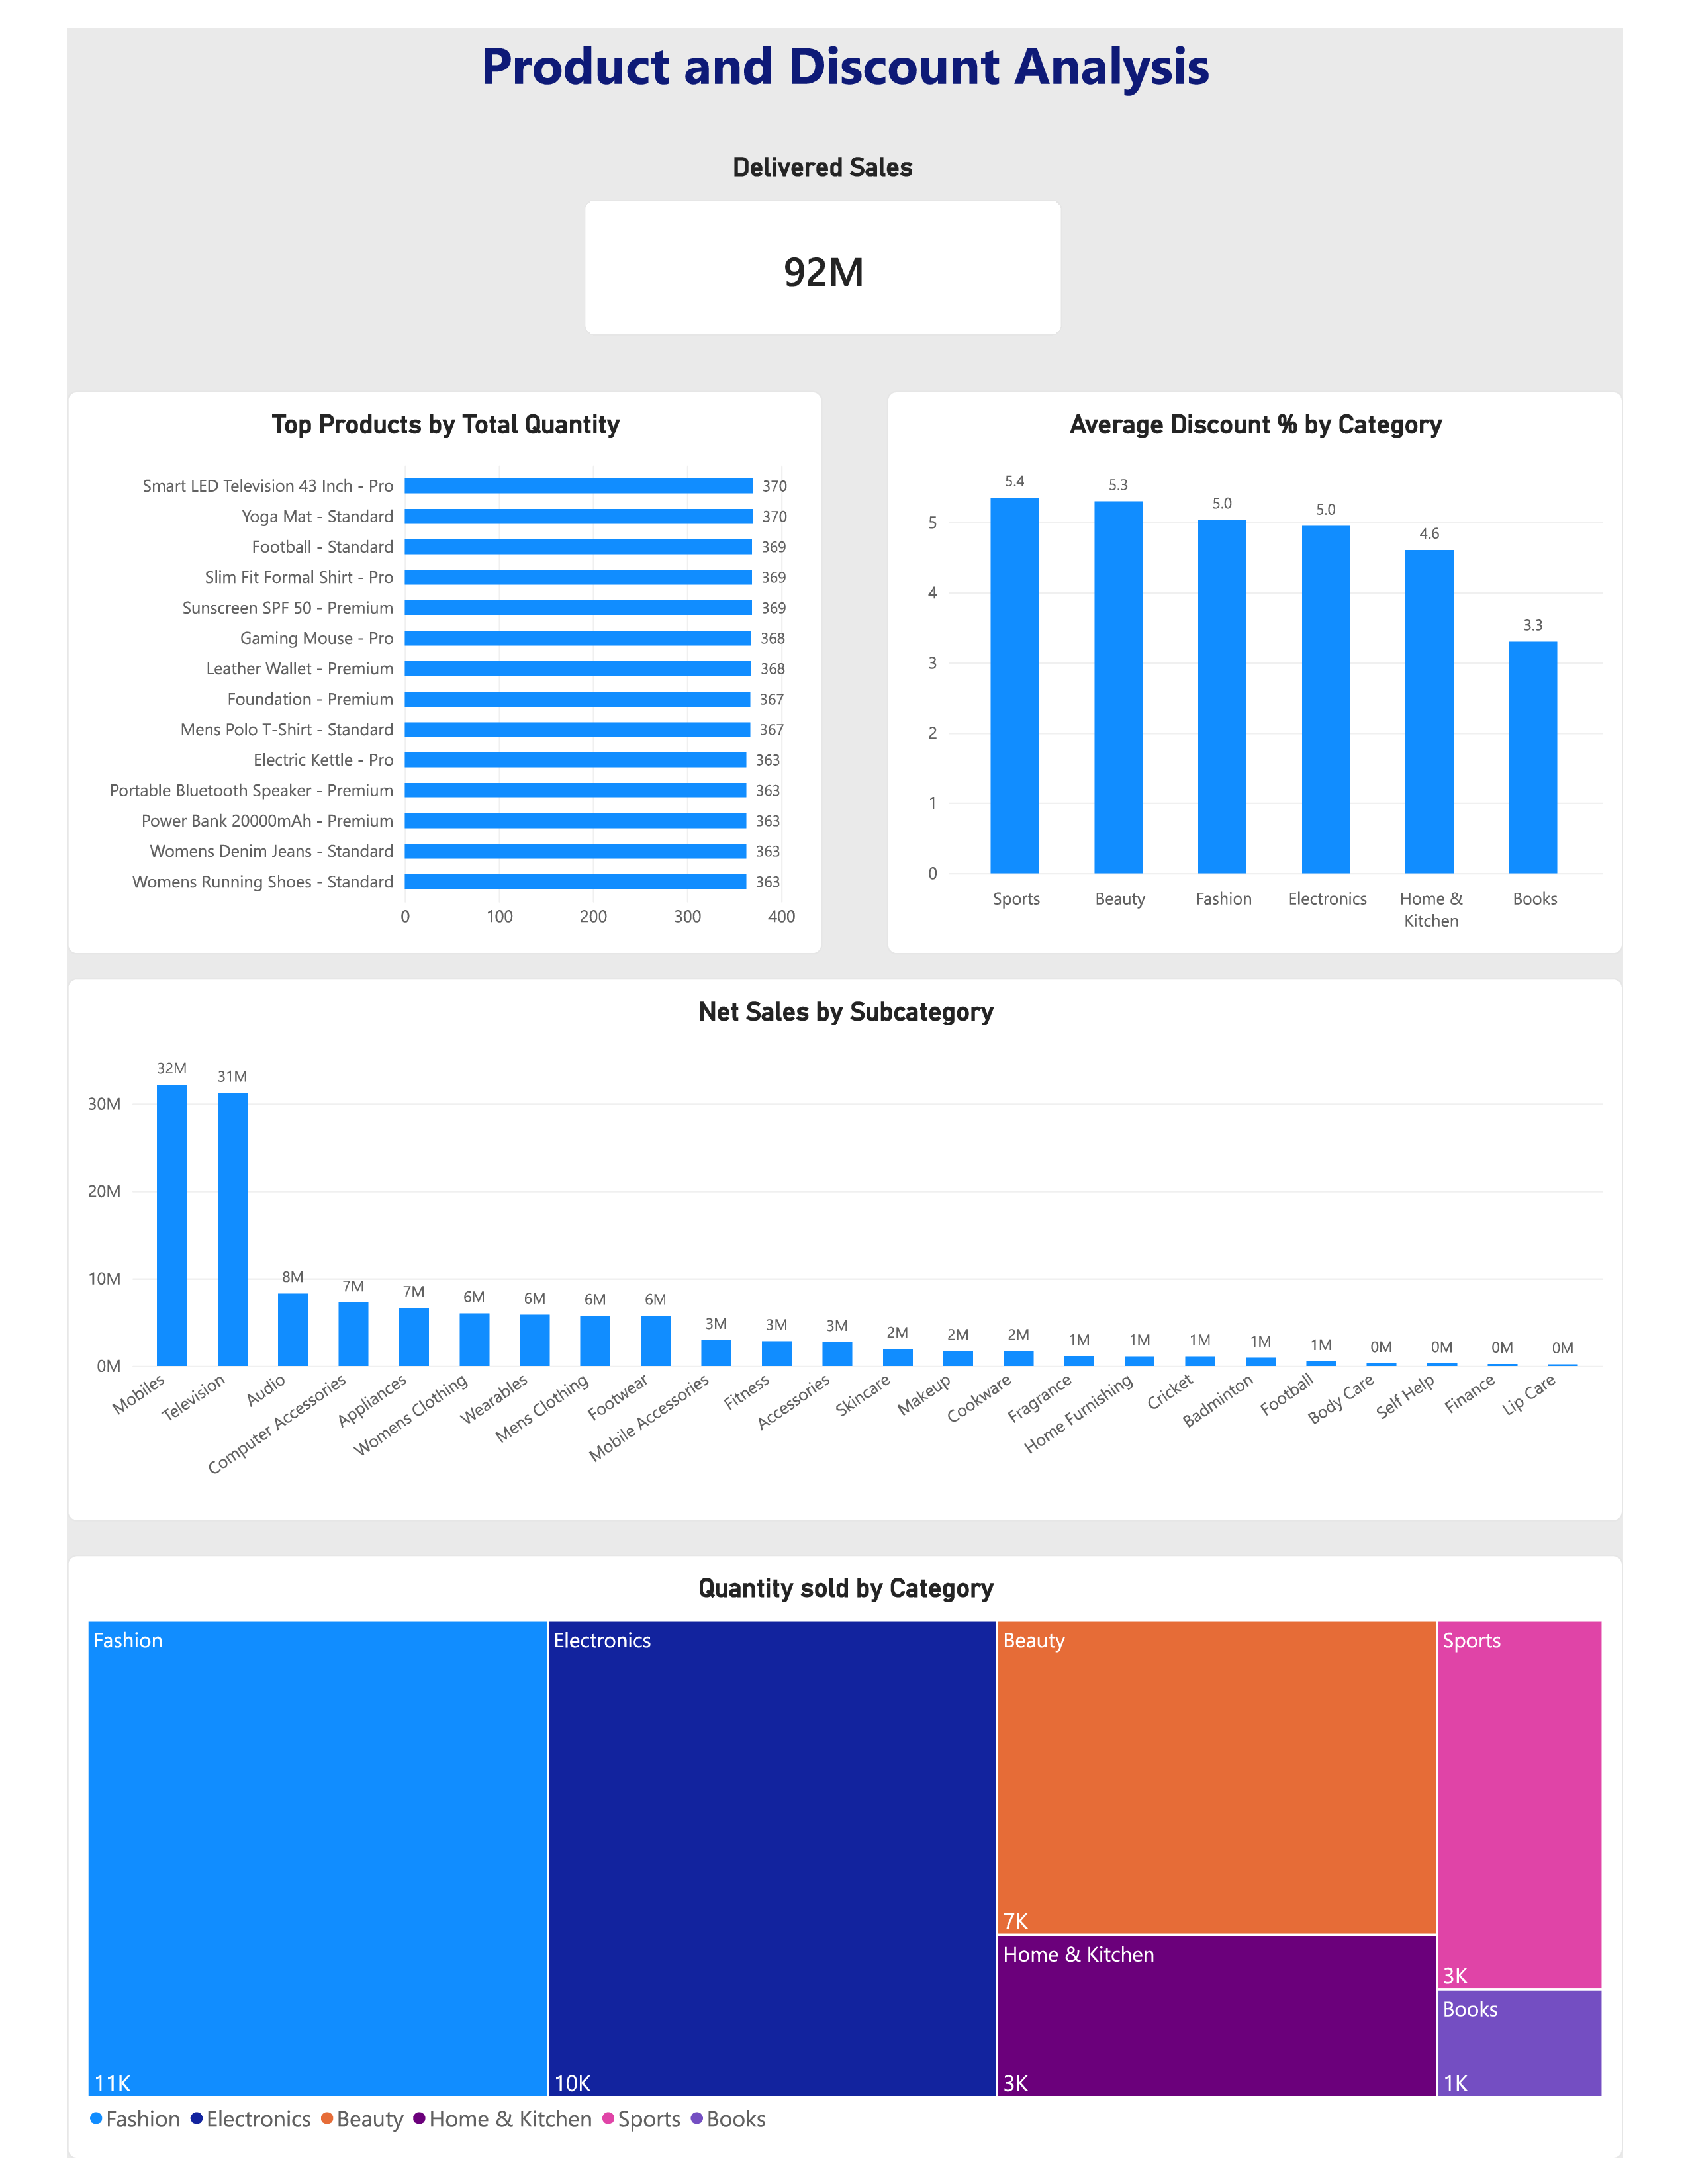

Layout of this report page (visuals, bound fields, positions):
{"tool":"powerbi","page":{"name":"Product_Discount_Analysis","canvas":[1300,1780],"ordinal":1},"visuals":[{"type":"cardVisual","title":"Delivered Sales","fields":{"Data":["ecommercesalesdb orders.Delivered_Orders"]},"box":[432.3,103.2,398.4,153.2],"z":0},{"type":"clusteredBarChart","title":"Top Products by Total Quantity","fields":{"Category":["ecommercesalesdb products.ProductName"],"Y":["ecommercesalesdb orderdetails.Total_Quantity"]},"box":[0,303.2,630.6,471],"z":1000},{"type":"clusteredColumnChart","title":"Net Sales by Subcategory","fields":{"Y":["ecommercesalesdb orderdetails.Net_Sales"],"Category":["ecommercesalesdb products.SubCategory"]},"box":[0,793.5,1300,454.8],"z":2000},{"type":"textbox","box":[0,0,1300,103.2],"z":3000},{"type":"textbox","box":[0,0,1300,85.5],"z":4000},{"type":"clusteredColumnChart","title":"Average Discount % by Category","fields":{"Category":["ecommercesalesdb products.Category"],"Y":["ecommercesalesdb orderdetails.Average_Discount %"]},"box":[685.5,303.2,614.5,471],"z":5000},{"type":"treemap","title":"Quantity sold by Category","fields":{"Group":["ecommercesalesdb products.Category"],"Values":["ecommercesalesdb orderdetails.Total_Quantity"]},"box":[0,1275.8,1300,504.8],"z":6000}]}

Visuals, with their boxes on the page's 1300x1780 design canvas (x1, y1, x2, y2). These are canvas units, not pixel positions in the 1688x2184 screenshot, which may show the page scaled, cropped or inside an application window:
"Delivered Sales" cardVisual: [left=432, top=103, right=831, bottom=256]
"Top Products by Total Quantity" clusteredBarChart: [left=0, top=303, right=631, bottom=774]
"Net Sales by Subcategory" clusteredColumnChart: [left=0, top=794, right=1300, bottom=1248]
textbox: [left=0, top=0, right=1300, bottom=103]
textbox: [left=0, top=0, right=1300, bottom=86]
"Average Discount % by Category" clusteredColumnChart: [left=686, top=303, right=1300, bottom=774]
"Quantity sold by Category" treemap: [left=0, top=1276, right=1300, bottom=1781]
